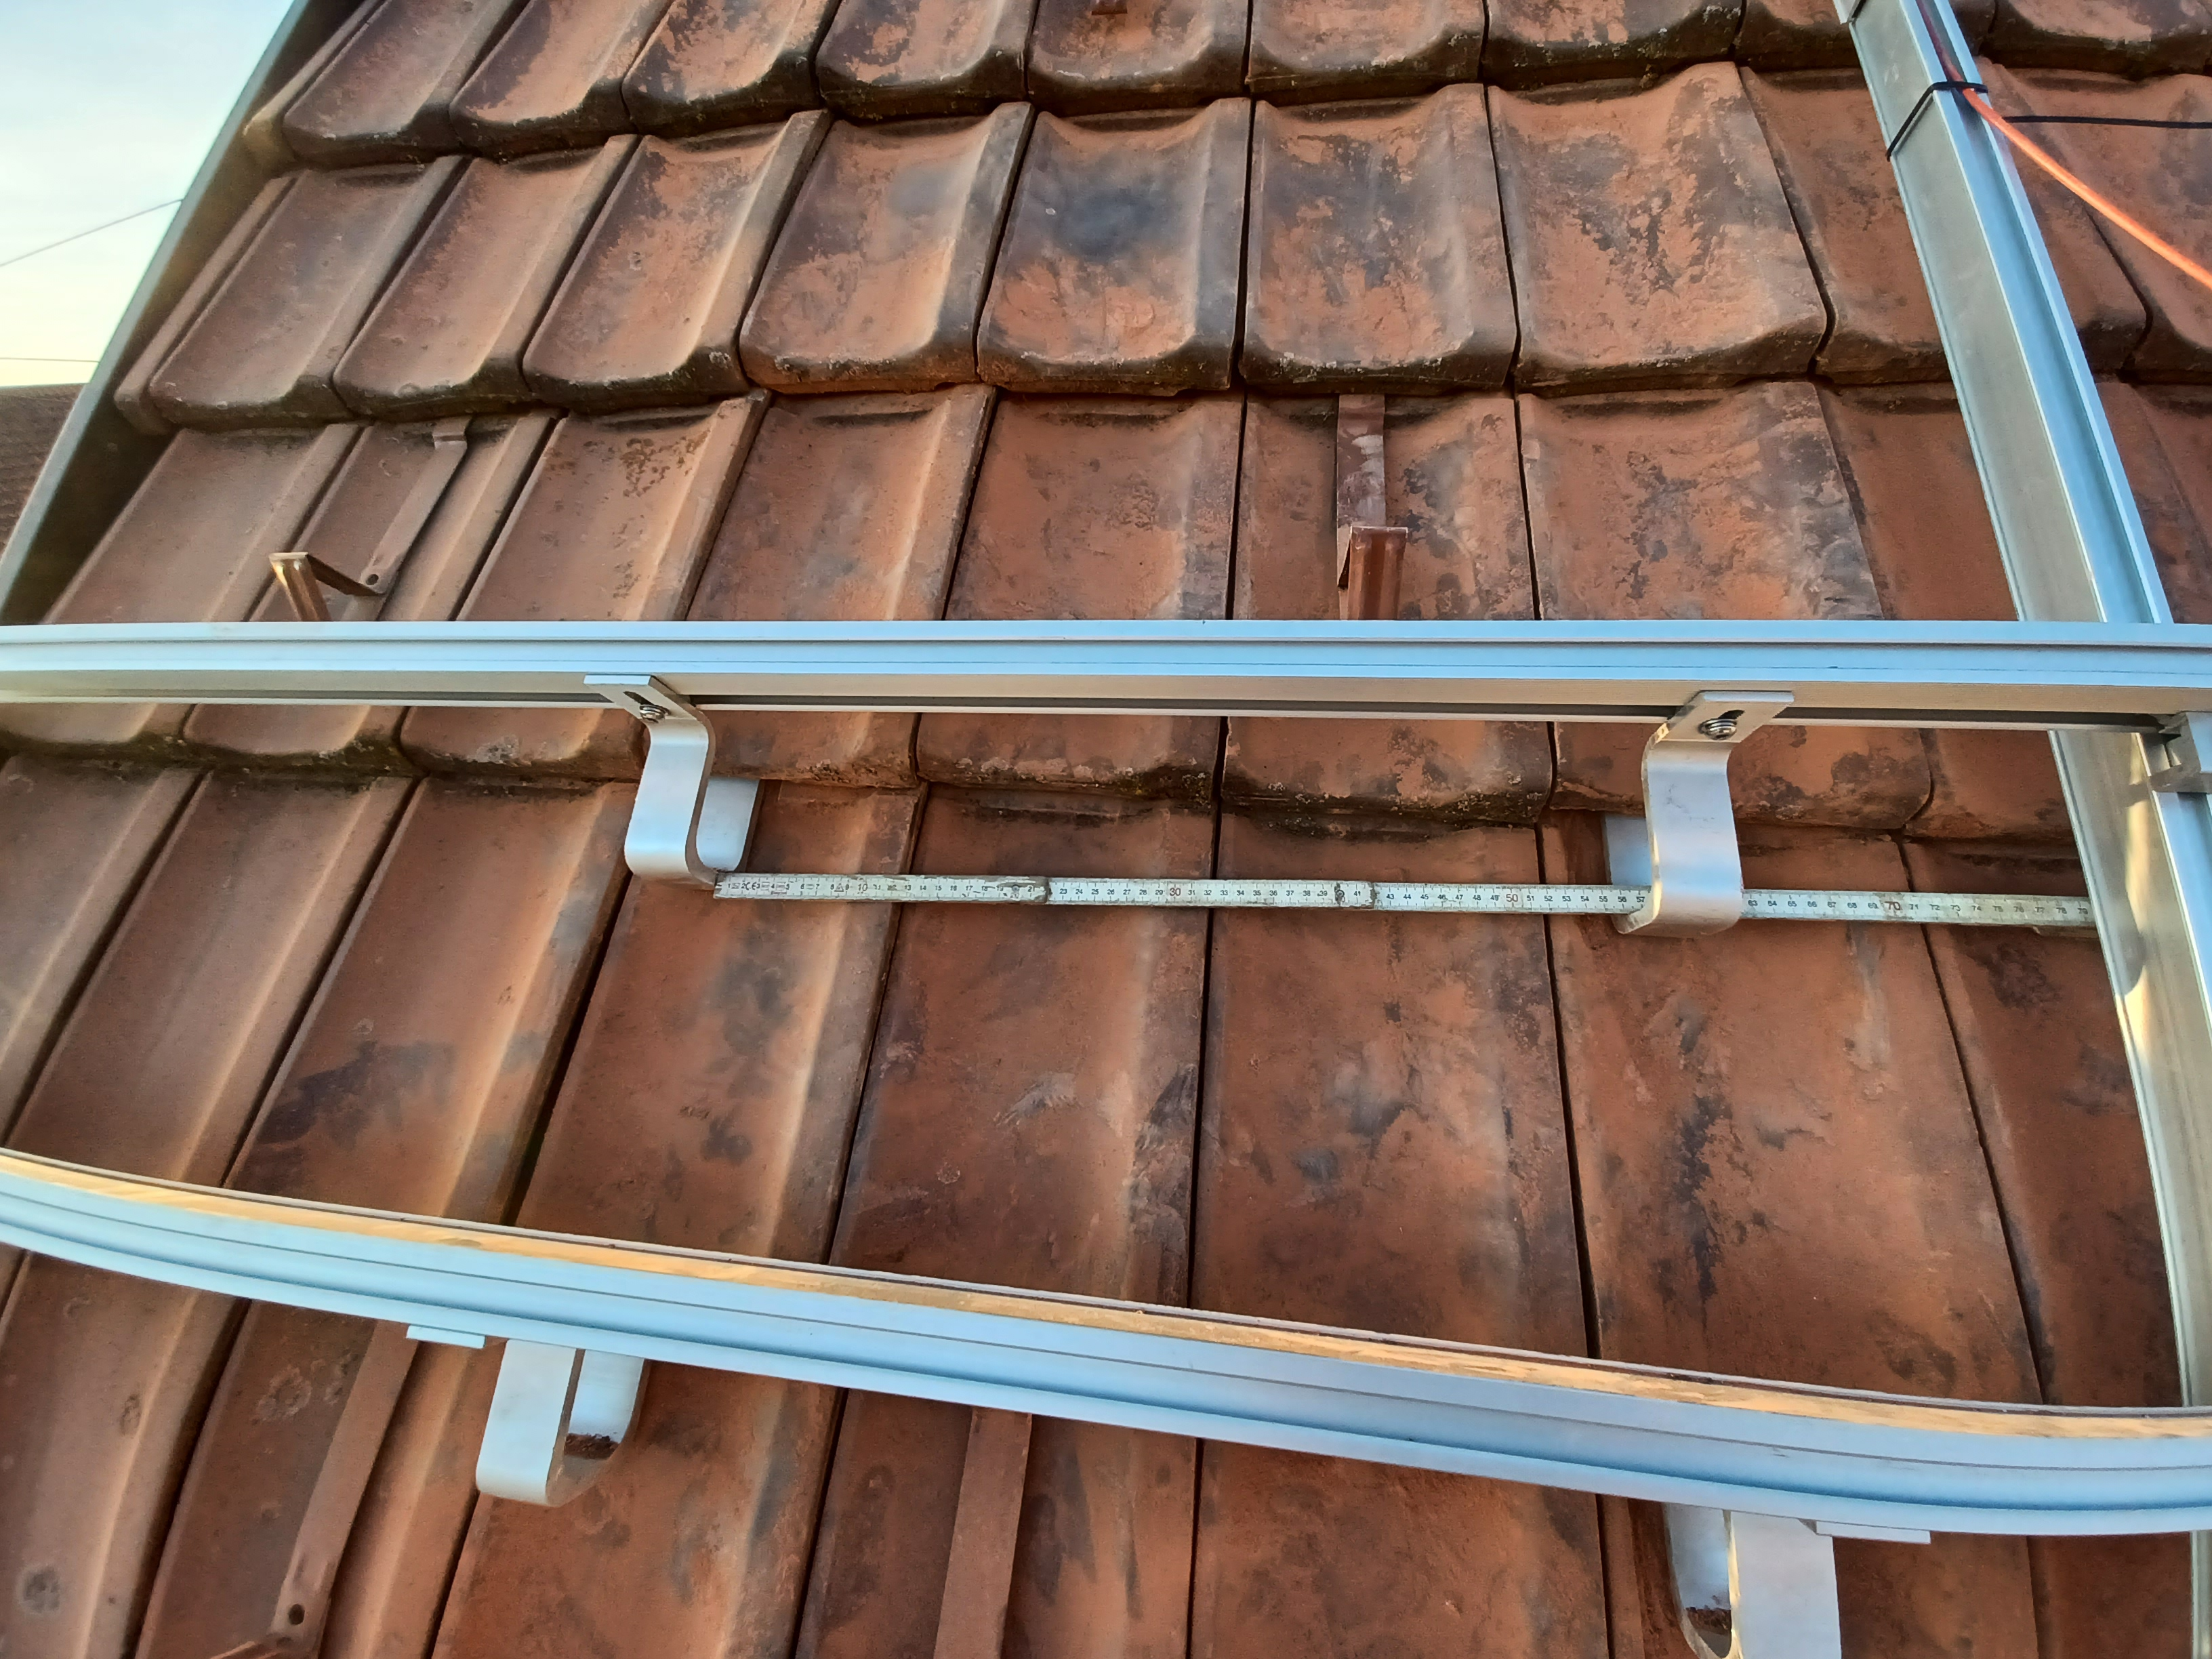hook: (1599, 690, 1794, 938), (406, 1324, 651, 1507), (1662, 1500, 1932, 1657), (582, 674, 766, 889)
